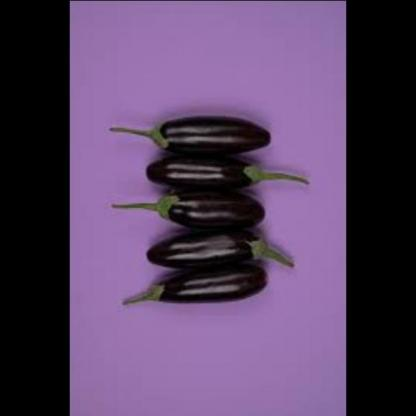eggplant: (127, 258, 274, 318), (130, 183, 268, 236), (132, 100, 284, 148), (132, 154, 282, 198), (137, 232, 282, 276)
